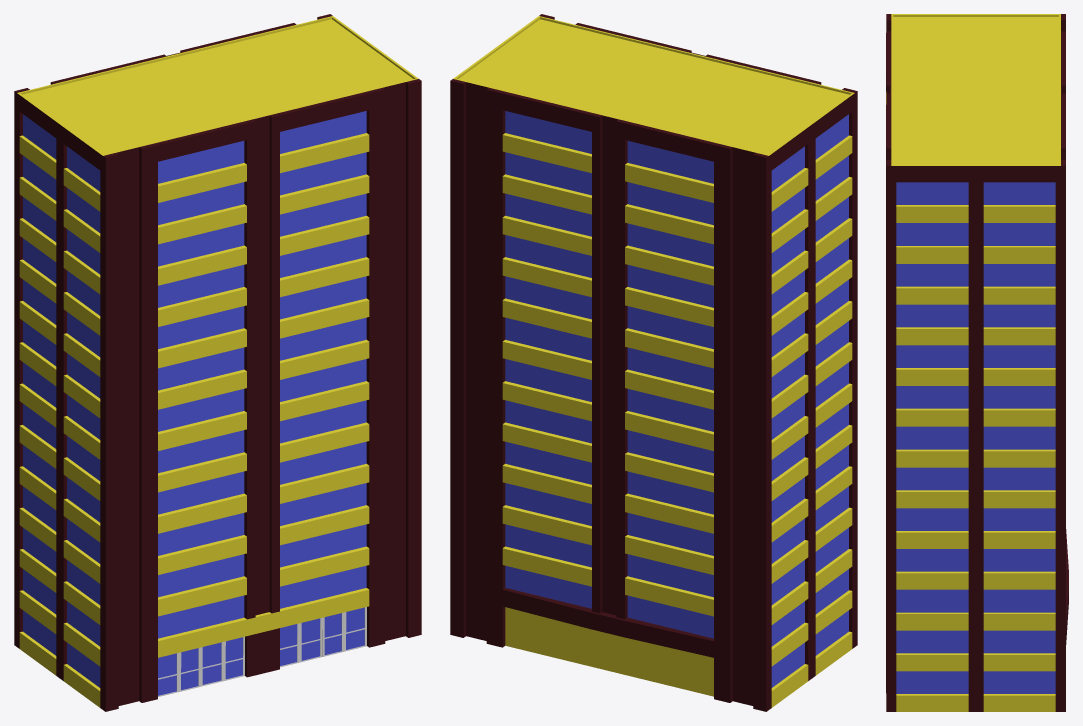
The model's file is building24.fbx.
The picture shows the model from 3 angles, left to right: view 1: azimuth 30°, elevation 25°; view 2: azimuth 150°, elevation 25°; view 3: azimuth 270°, elevation 25°; orthographic projection.
Visible parts, largest first — view 1: building13; view 2: building13; view 3: building13.
Part boxes in pixels (x1=…): building13: x1=14, y1=14, x2=421, y2=711; building13: x1=450, y1=14, x2=857, y2=711; building13: x1=886, y1=14, x2=1068, y2=711.
Bounding box in the file's own units: 2400 × 4021 × 1220.
